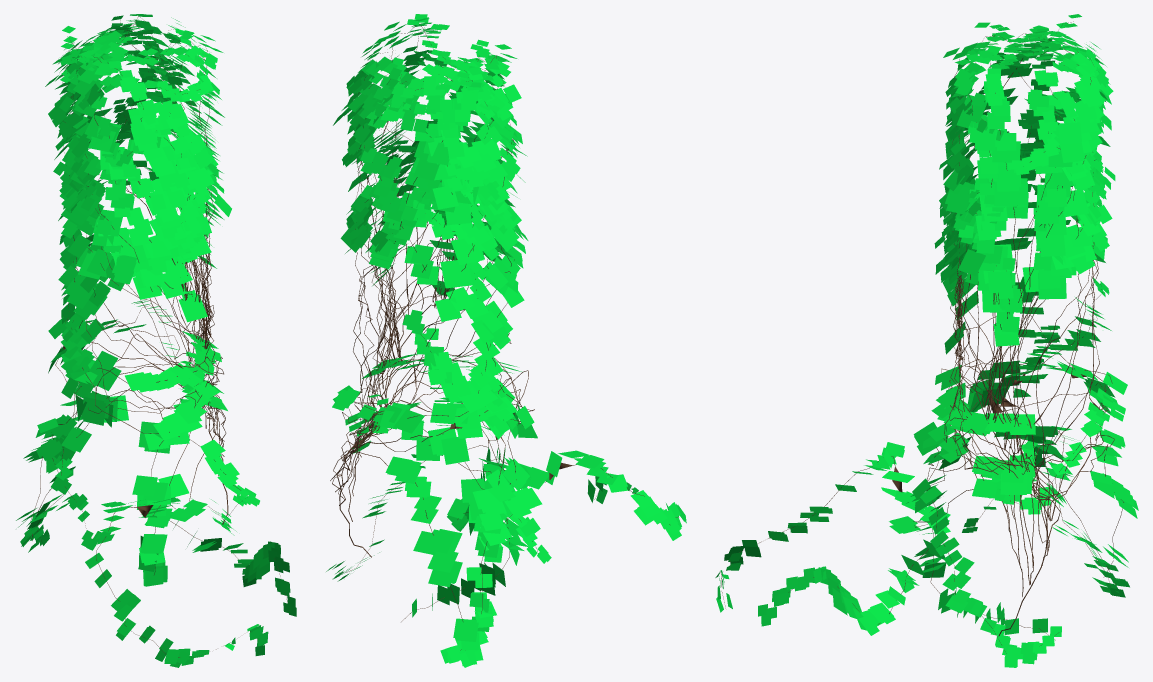
Rendered from pillar_IVY.fbx.
3 renders of one model, left to right at view 1: azimuth 30°, elevation 25°; view 2: azimuth 150°, elevation 25°; view 3: azimuth 270°, elevation 25°, orthographic. The views are drawn at different scales.
Visible parts, largest first — view 1: IvyLeaf, IVY_Curve; view 2: IvyLeaf, IVY_Curve; view 3: IvyLeaf, IVY_Curve.
Part boxes in pixels (left/top/right/bottom): IvyLeaf: left=16, top=14, right=296, bottom=667; IVY_Curve: left=30, top=16, right=287, bottom=657; IvyLeaf: left=326, top=14, right=686, bottom=667; IVY_Curve: left=330, top=24, right=678, bottom=650; IvyLeaf: left=715, top=14, right=1138, bottom=667; IVY_Curve: left=720, top=21, right=1123, bottom=653.
Bounding box in the file's own units: 122 × 286 × 184.
